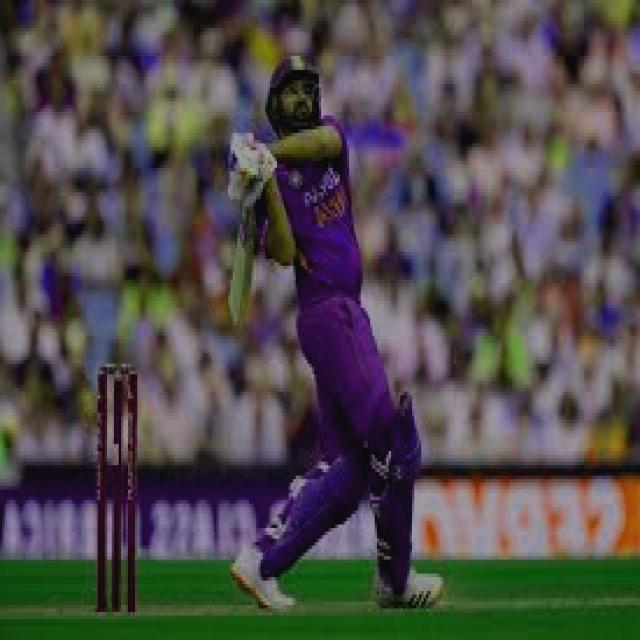toe: (230, 270, 253, 332)
